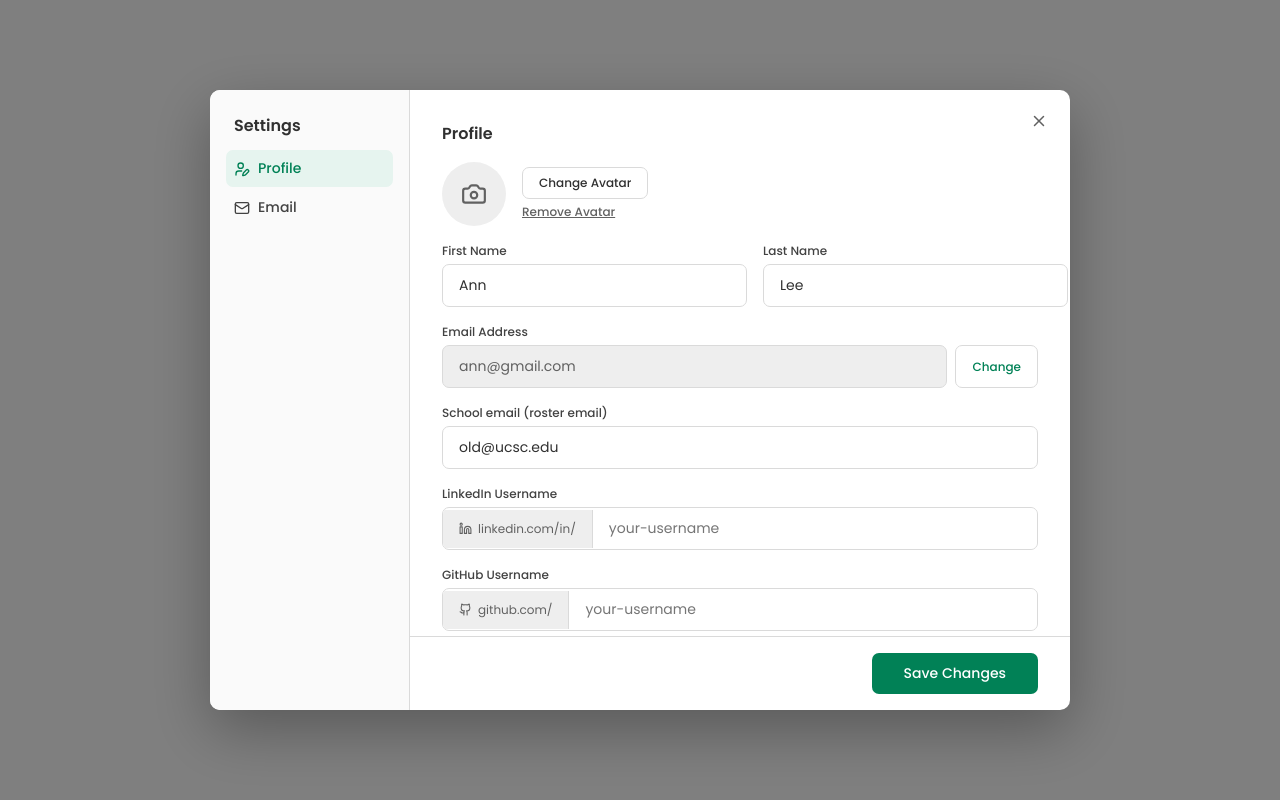
Test: Settings — school email › says the school email was not changed when the code is never entered
The width and height of the screenshot is (1280, 800).
Replace the text in the field labelled "School email (roster email)" with "ann@ucsc.edu" at [740, 448], box left=442, top=426, right=1038, bottom=469
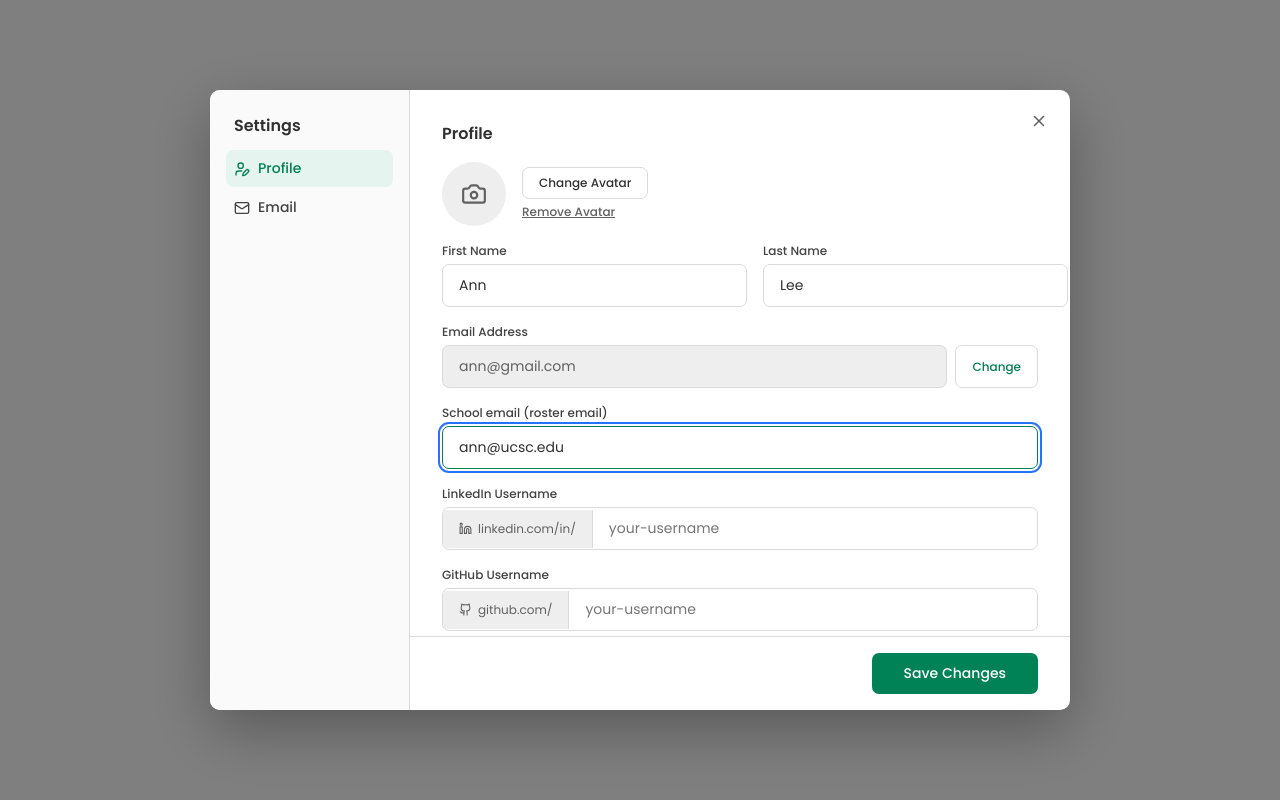
Click the button "Save Changes" at [955, 674], box left=872, top=653, right=1038, bottom=694
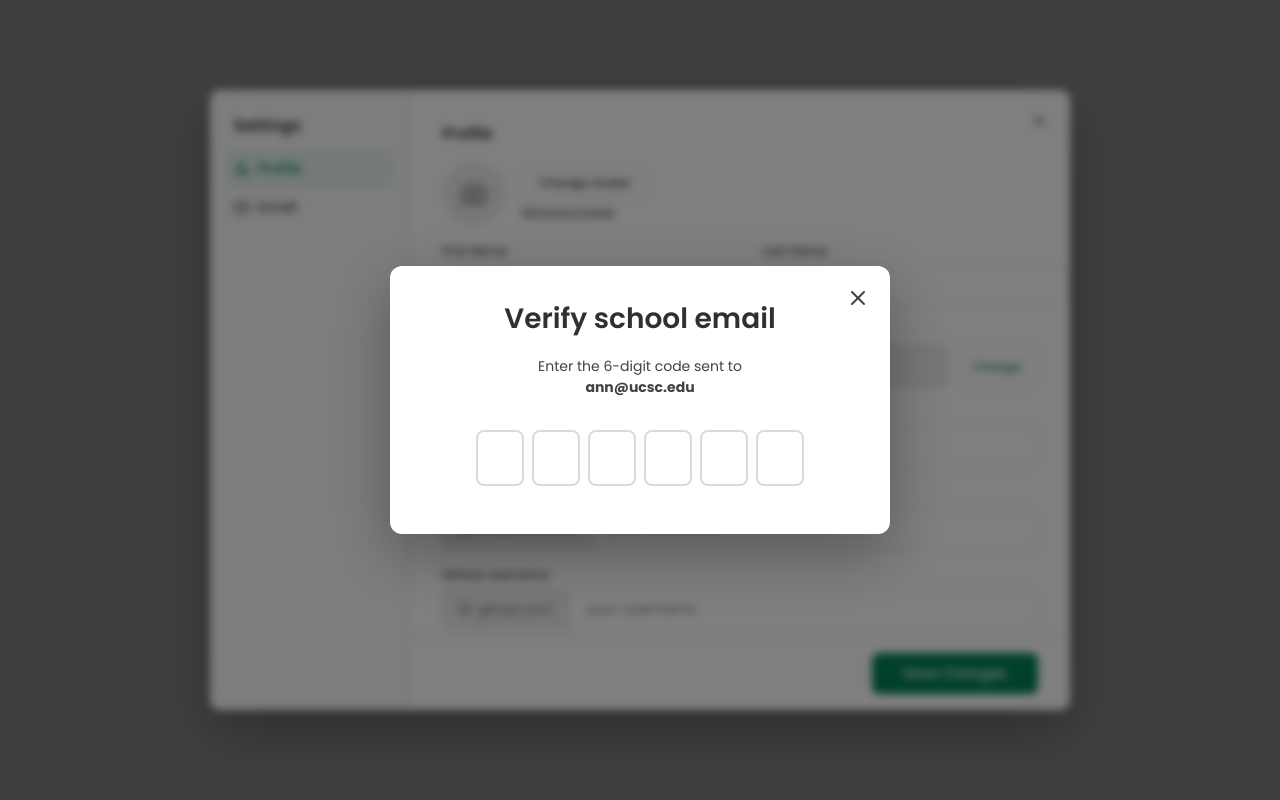
Check: the text "Enter the 6-digit code" is shown, box left=538, top=356, right=742, bottom=376
Click the button named "Close" at [858, 298], box left=842, top=282, right=874, bottom=314
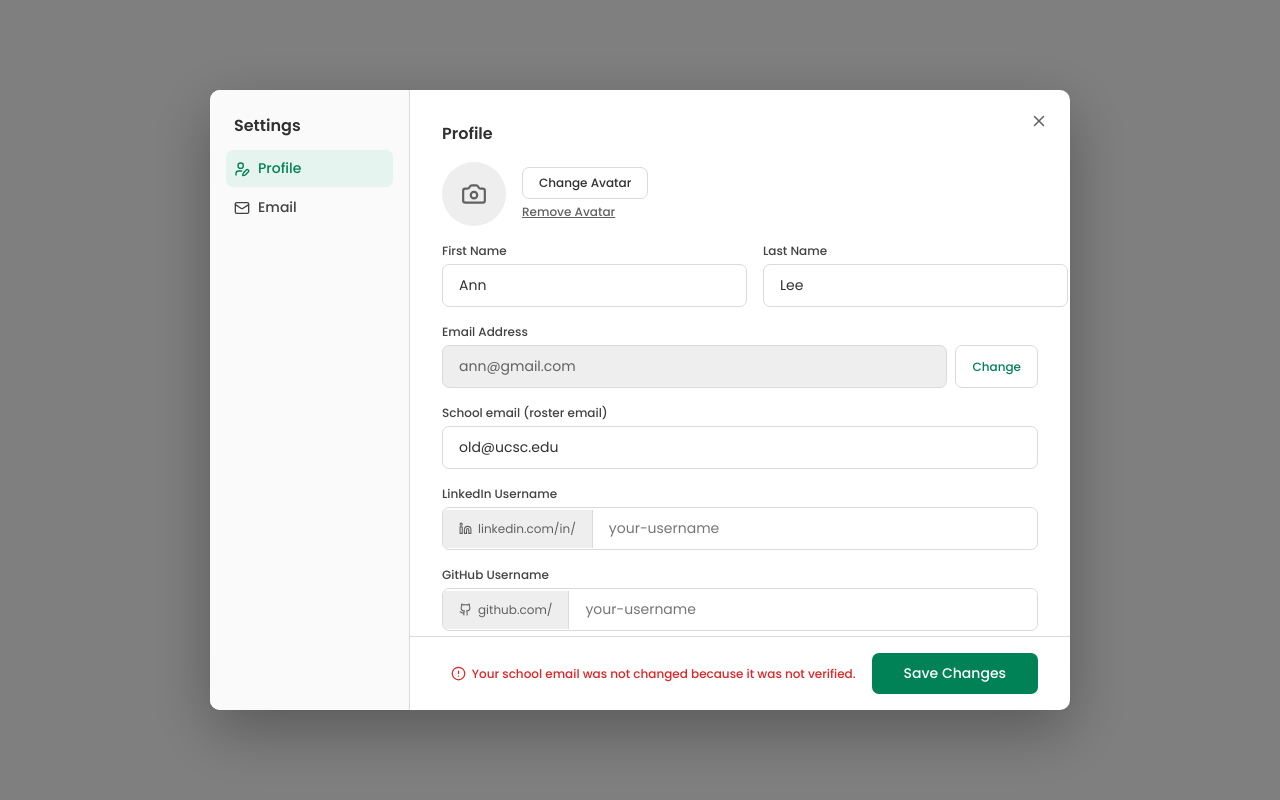
Check: the text "Your school email was not changed because it was not verified." is shown, box left=451, top=664, right=856, bottom=682
Check: the field labelled "School email (roster email)" holds "old@ucsc.edu", box left=442, top=426, right=1038, bottom=469
